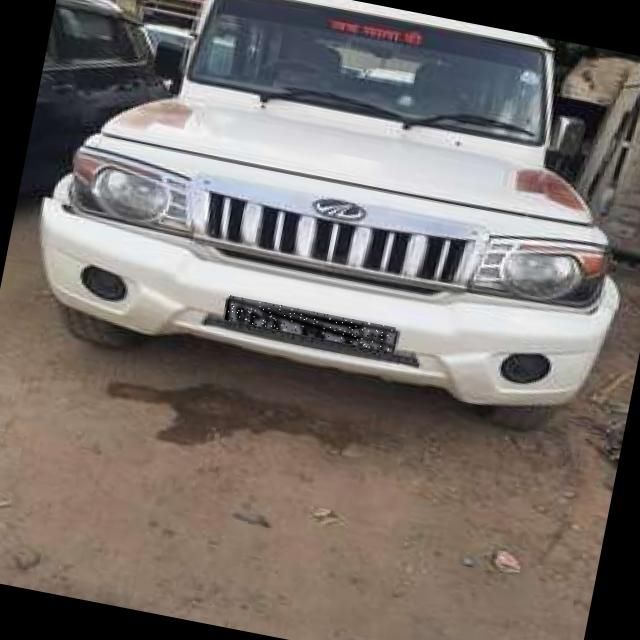Plate: (226, 297, 398, 354)
